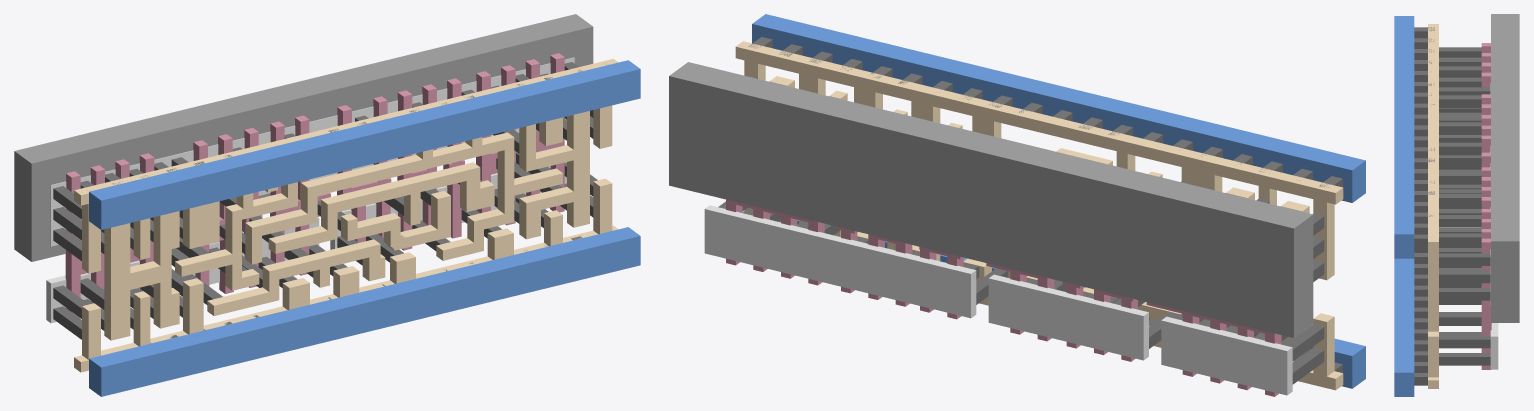
Rendered from sky130_fd_sc_hd__ha_4.gds.gltf.
3 renders of one model, left to right at view 1: azimuth 30°, elevation 25°; view 2: azimuth 150°, elevation 25°; view 3: azimuth 270°, elevation 25°, orthographic. The views are drawn at different scales.
Parts seen in each view (by area): view 1: sky130_fd_sc_hd__ha_4_li1, sky130_fd_sc_hd__ha_4_met1, sky130_fd_sc_hd__ha_4_nwell, sky130_fd_sc_hd__ha_4_poly, sky130_fd_sc_hd__ha_4_licon, sky130_fd_sc_hd__ha_4_diff; view 2: sky130_fd_sc_hd__ha_4_nwell, sky130_fd_sc_hd__ha_4_diff, sky130_fd_sc_hd__ha_4_li1, sky130_fd_sc_hd__ha_4_met1, sky130_fd_sc_hd__ha_4_poly, sky130_fd_sc_hd__ha_4_licon, sky130_fd_sc_hd__ha_4_mcon; view 3: sky130_fd_sc_hd__ha_4_licon, sky130_fd_sc_hd__ha_4_nwell, sky130_fd_sc_hd__ha_4_met1, sky130_fd_sc_hd__ha_4_mcon, sky130_fd_sc_hd__ha_4_li1, sky130_fd_sc_hd__ha_4_poly, sky130_fd_sc_hd__ha_4_diff.
Boxes of the visible parts, x1,y1,x2,y2 form: sky130_fd_sc_hd__ha_4_li1: [74, 58, 618, 372]; sky130_fd_sc_hd__ha_4_met1: [89, 60, 640, 396]; sky130_fd_sc_hd__ha_4_nwell: [14, 14, 593, 261]; sky130_fd_sc_hd__ha_4_poly: [65, 53, 564, 318]; sky130_fd_sc_hd__ha_4_licon: [53, 62, 597, 339]; sky130_fd_sc_hd__ha_4_diff: [46, 57, 574, 323]; sky130_fd_sc_hd__ha_4_nwell: [669, 62, 1313, 337]; sky130_fd_sc_hd__ha_4_diff: [704, 205, 1292, 395]; sky130_fd_sc_hd__ha_4_li1: [735, 41, 1343, 390]; sky130_fd_sc_hd__ha_4_met1: [752, 14, 1365, 388]; sky130_fd_sc_hd__ha_4_poly: [726, 199, 1281, 396]; sky130_fd_sc_hd__ha_4_licon: [718, 75, 1324, 384]; sky130_fd_sc_hd__ha_4_mcon: [748, 37, 1342, 372]; sky130_fd_sc_hd__ha_4_licon: [1439, 47, 1490, 365]; sky130_fd_sc_hd__ha_4_nwell: [1491, 14, 1519, 322]; sky130_fd_sc_hd__ha_4_met1: [1394, 16, 1414, 396]; sky130_fd_sc_hd__ha_4_mcon: [1414, 27, 1434, 385]; sky130_fd_sc_hd__ha_4_li1: [1428, 24, 1438, 388]; sky130_fd_sc_hd__ha_4_poly: [1481, 43, 1491, 369]; sky130_fd_sc_hd__ha_4_diff: [1490, 83, 1498, 369].
Bounding box in the file's own units: 9.58 × 3.2 × 2.24.
